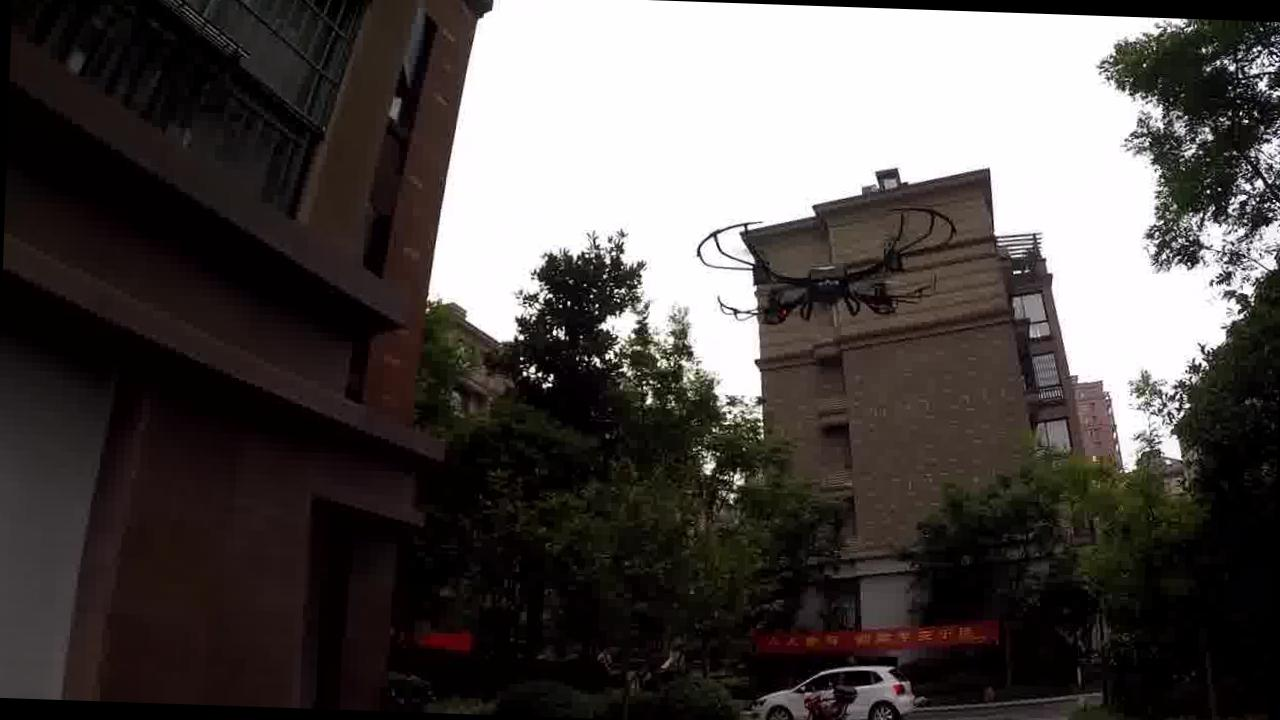drone: (681, 195, 980, 350)
